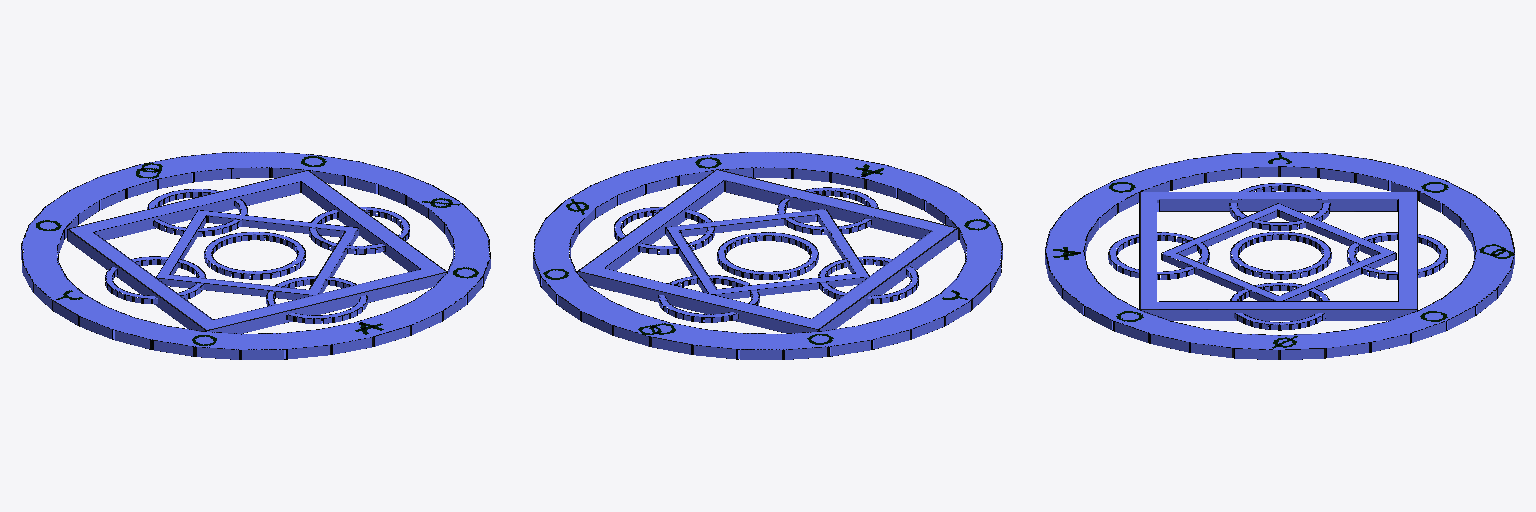
3 views of the same model, side by side, from view 1: azimuth 30°, elevation 25°; view 2: azimuth 150°, elevation 25°; view 3: azimuth 270°, elevation 25° (orthographic).
Parts seen in each view (by area): view 1: Warp_円柱.008; view 2: Warp_円柱.008; view 3: Warp_円柱.008.
Part boxes in pixels (left/top/right/bottom): Warp_円柱.008: left=21, top=152, right=490, bottom=359; Warp_円柱.008: left=533, top=152, right=1002, bottom=359; Warp_円柱.008: left=1045, top=151, right=1514, bottom=359.
Size of the model in its own units: 2 by 0.0535 by 2.
Materials: 1 (1 with a texture image).